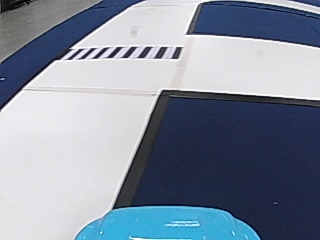CrossWalk: (68, 43, 183, 60)
